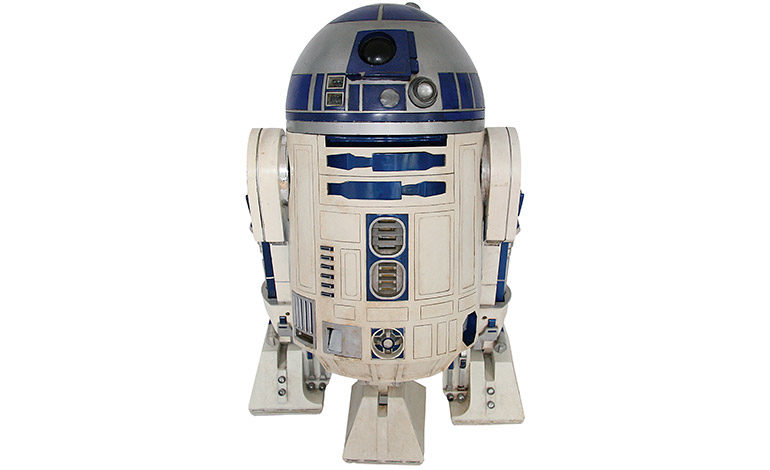r2d2: (243, 2, 530, 461)
